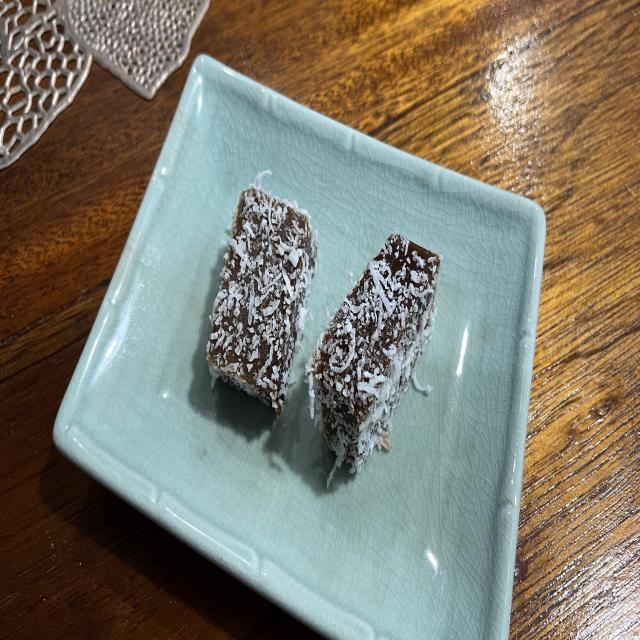kaswi: (306, 233, 440, 487), (208, 173, 318, 416)
